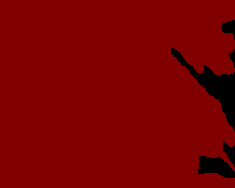Sky: (1, 1, 234, 187)
